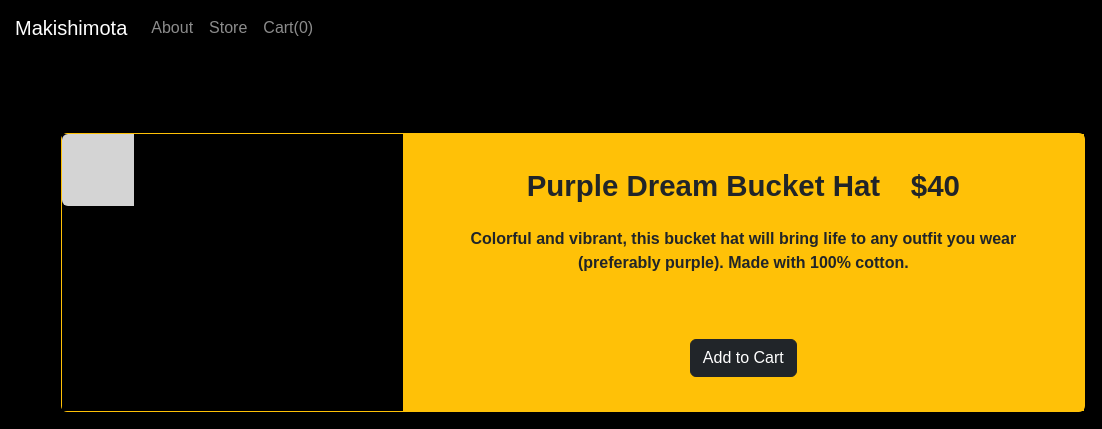
Test case: Correctly adds to cart
click add to cart
Click the button "Add to Cart" at [743, 358], box [690,339,797,377]
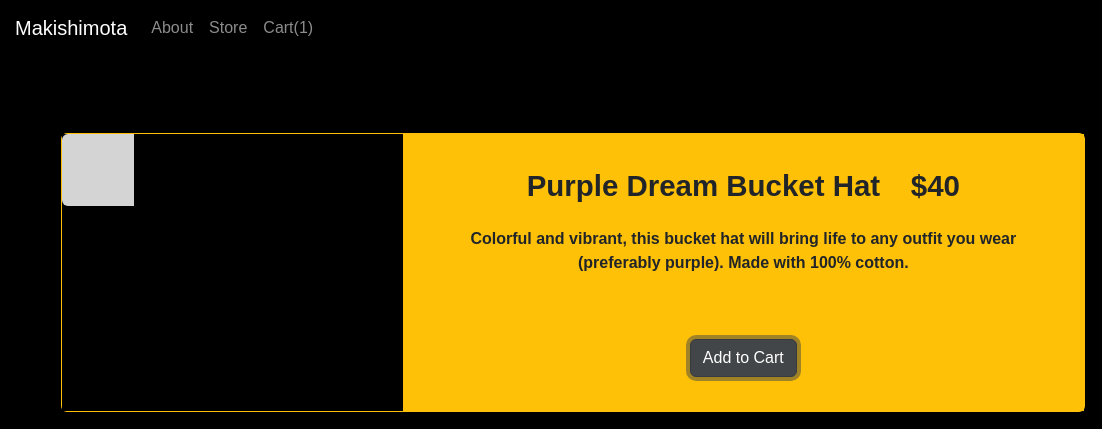
Result: the link "Cart(1)" is shown at [255,8,321,48]
